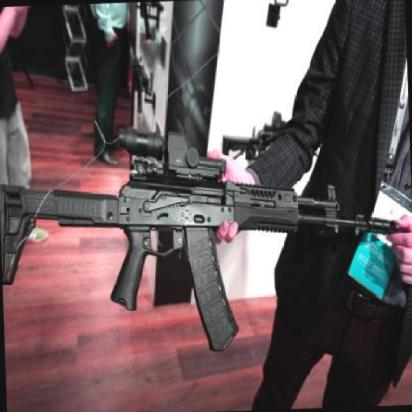Gun: (0, 95, 380, 350)
